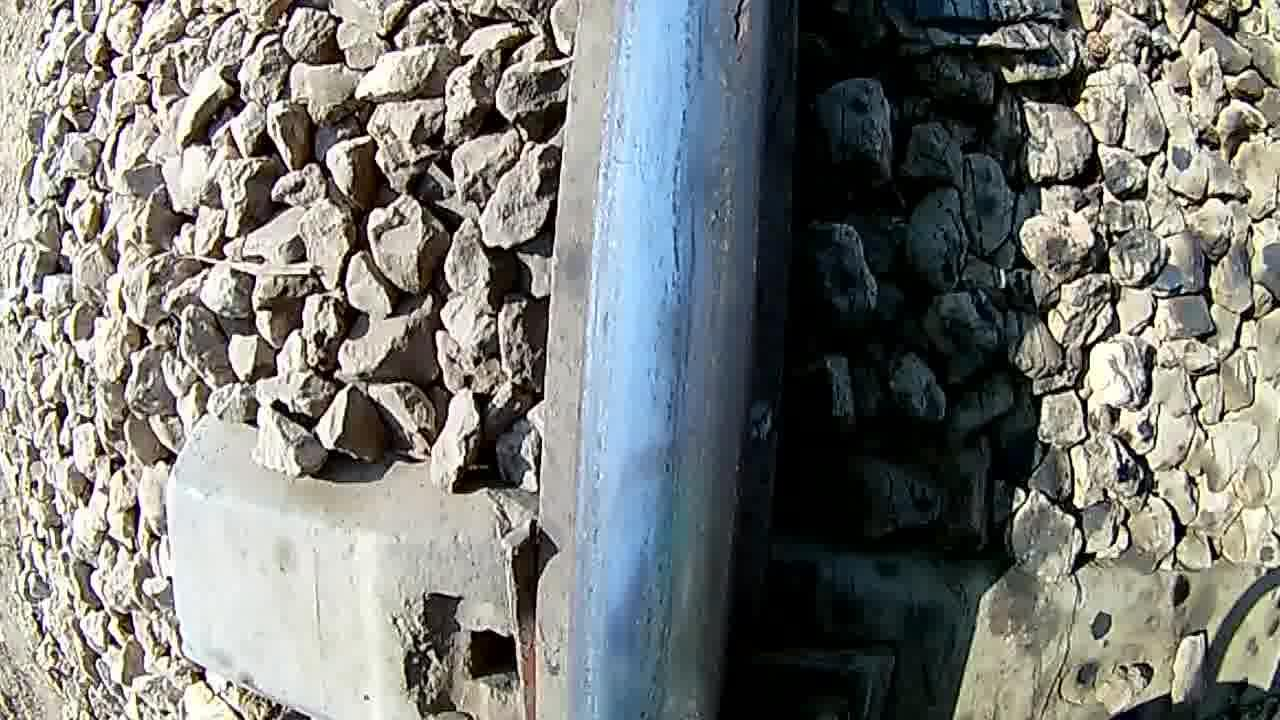crack: (593, 0, 773, 720)
